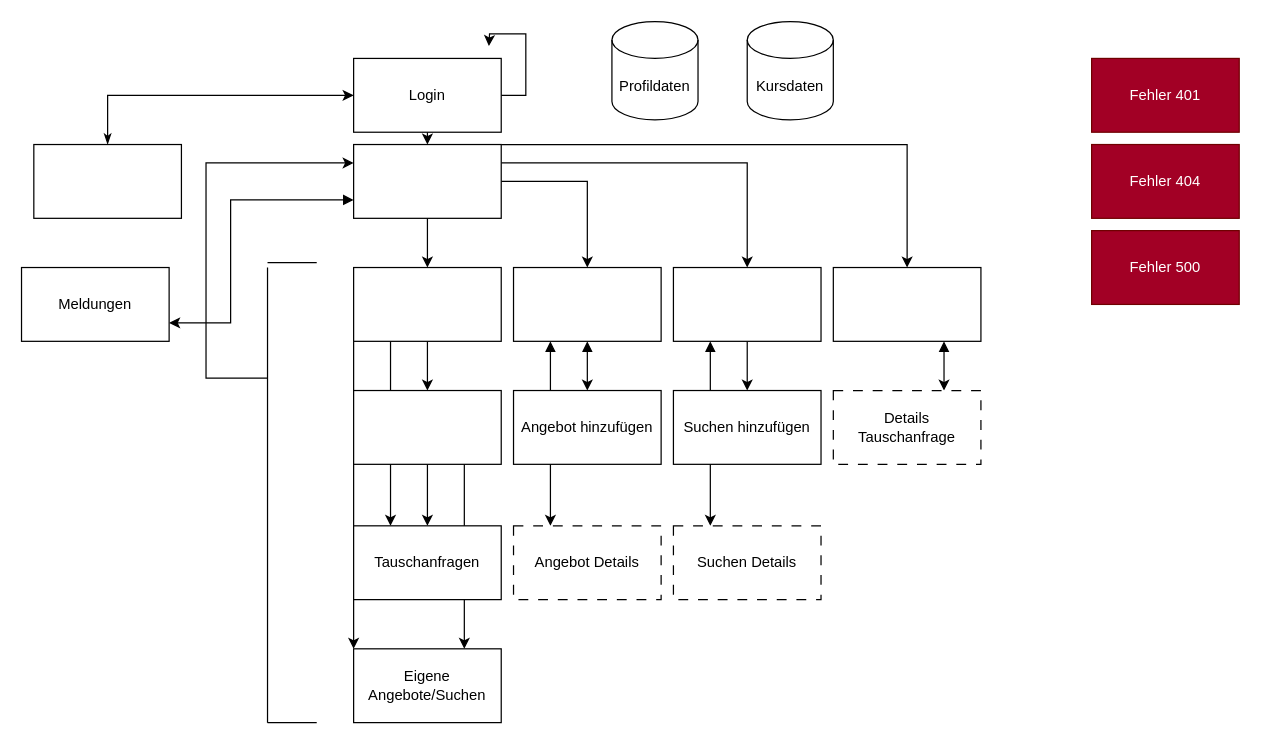
Image size: 1261x745. Some labels were removed from this diagram. The centre of each missing label's shape, as x and y in pixels:
Angebote: pixel 586 303
Persona: pixel 426 426
Profil: pixel 426 303
Registrieren: pixel 107 180
Startseite: pixel 426 180
Studienbüro (Tauschanfragen): pixel 906 303
Suchen: pixel 746 303
